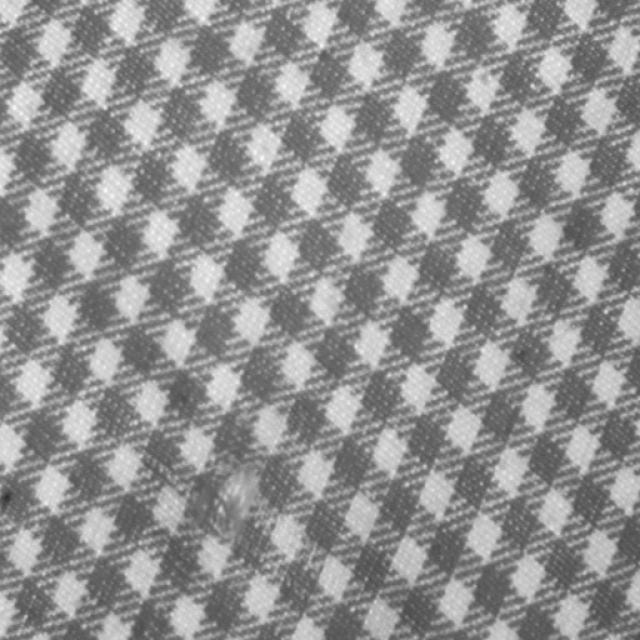Hole-Defect: (202, 464, 269, 536)
